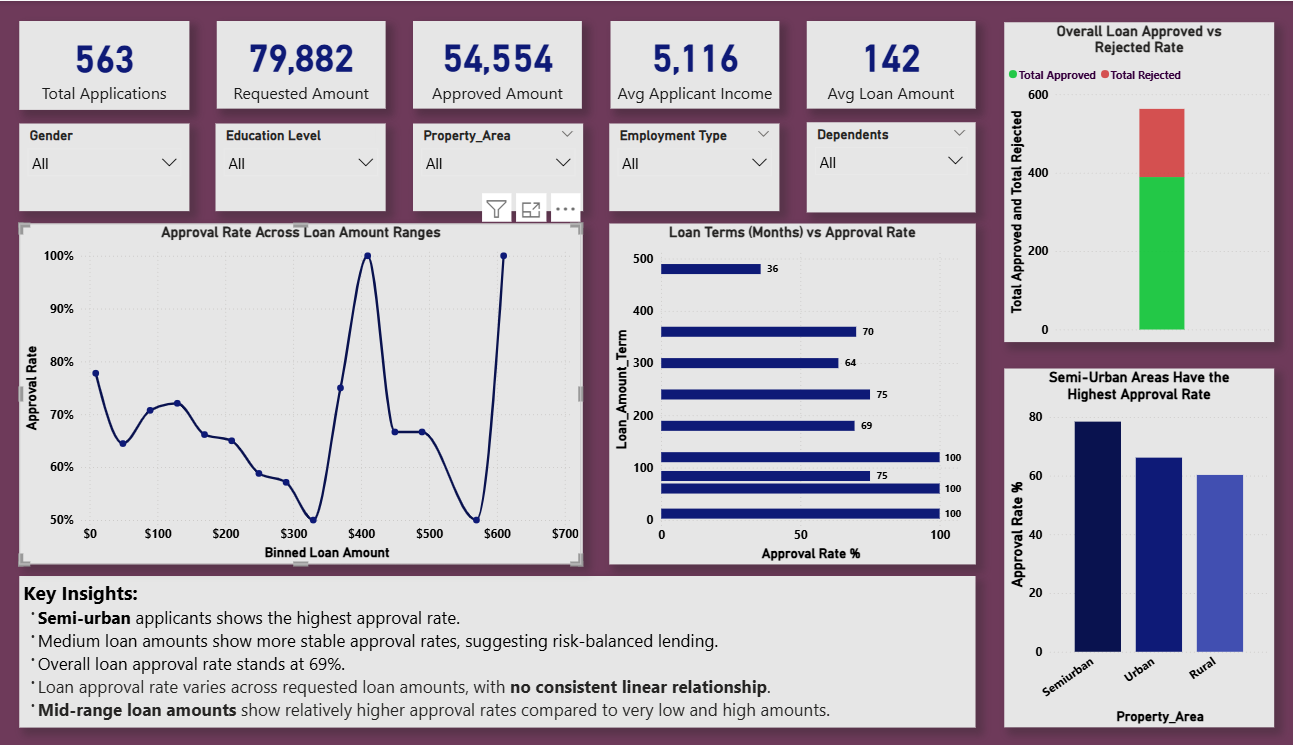

Layout of this report page (visuals, bound fields, positions):
{"tool":"powerbi","page":{"name":"Final Dashboard","canvas":[1620,933],"ordinal":3},"visuals":[{"type":"card","fields":{"Values":["bank_loan l_approved.Total Applications"]},"box":[26.2,25,212.7,111],"z":0},{"type":"card","fields":{"Values":["bank_loan l_approved.Total_Loan_Requested"]},"box":[273.3,25.5,211.6,109.9],"z":1000},{"type":"card","fields":{"Values":["bank_loan l_approved.Total_Loan_Approved"]},"box":[519.3,25.5,211.6,109.9],"z":2000},{"type":"card","fields":{"Values":["Avg(bank_loan l_approved.ApplicantIncome)"]},"box":[765.3,25.5,211.6,109.9],"z":3000},{"type":"card","fields":{"Values":["Avg(bank_loan l_approved.LoanAmount)"]},"box":[1011.3,25.8,211.2,109.5],"z":4000},{"type":"slicer","fields":{"Values":["bank_loan l_approved.Gender"]},"box":[26.2,152.9,212.7,109.5],"z":5000},{"type":"slicer","fields":{"Values":["bank_loan l_approved.Education"]},"box":[272.3,152.6,213,109.9],"z":6000},{"type":"slicer","fields":{"Values":["bank_loan l_approved.Property_Area"]},"box":[518.6,152.6,213,109.9],"z":7000},{"type":"slicer","fields":{"Values":["bank_loan l_approved.Self_Employed"]},"box":[764.9,152.6,213,109.9],"z":8000},{"type":"slicer","fields":{"Values":["bank_loan l_approved.Dependents"]},"box":[1011.3,151.3,211.2,112.5],"z":9000},{"type":"clusteredBarChart","title":"Loan Terms (Months) vs Approval Rate","fields":{"Category":["bank_loan l_approved.Loan_Amount_Term"],"Y":["bank_loan l_approved.Approval Rate %"]},"box":[764.5,278.3,458.1,426.8],"z":10000},{"type":"columnChart","title":"Overall Loan Approved vs Rejected Rate","fields":{"Y":["bank_loan l_approved.Total Approved","bank_loan l_approved.Total Rejected"]},"box":[1258.5,26.6,337.7,400.2],"z":11000},{"type":"columnChart","title":"Semi-Urban Areas Have the Highest Approval Rate","fields":{"Y":["bank_loan l_approved.Approval Rate %"],"Category":["bank_loan l_approved.Property_Area"]},"box":[1258.5,459.6,337.7,448.7],"z":12000},{"type":"textbox","box":[26.2,719.9,1196.3,189.6],"z":13000},{"type":"lineChart","title":"Approval Rate Across Loan Amount Ranges   ","fields":{"Y":["bank_loan l_approved.Approval_Rate2"],"Category":["bank_loan l_approved.LoanAmount (bins)"]},"box":[26.2,279,704.5,425.5],"z":14000}]}

Visuals, with their boxes in screenshot pixels (x1, y1, x2, y2), scaled from the page's 1620x933 canvas onto the 1293x745 screenshot:
card - bank_loan l_approved.Total Applications: <box>21,20,191,109</box>
card - bank_loan l_approved.Total_Loan_Requested: <box>218,20,387,108</box>
card - bank_loan l_approved.Total_Loan_Approved: <box>414,20,583,108</box>
card - Avg(bank_loan l_approved.ApplicantIncome): <box>611,20,780,108</box>
card - Avg(bank_loan l_approved.LoanAmount): <box>807,21,976,108</box>
slicer - bank_loan l_approved.Gender: <box>21,122,191,210</box>
slicer - bank_loan l_approved.Education: <box>217,122,387,210</box>
slicer - bank_loan l_approved.Property_Area: <box>414,122,584,210</box>
slicer - bank_loan l_approved.Self_Employed: <box>611,122,781,210</box>
slicer - bank_loan l_approved.Dependents: <box>807,121,976,211</box>
"Loan Terms (Months) vs Approval Rate" clusteredBarChart: <box>610,222,976,563</box>
"Overall Loan Approved vs Rejected Rate" columnChart: <box>1004,21,1274,341</box>
"Semi-Urban Areas Have the Highest Approval Rate" columnChart: <box>1004,367,1274,725</box>
textbox: <box>21,575,976,726</box>
"Approval Rate Across Loan Amount Ranges   " lineChart: <box>21,223,583,563</box>
